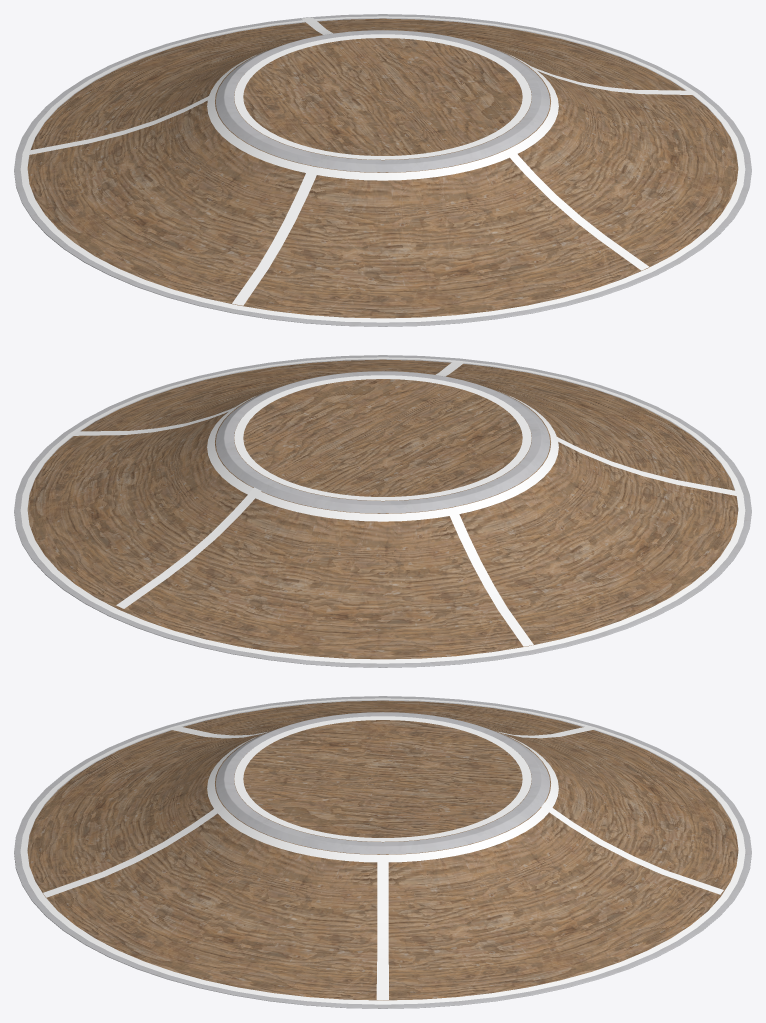
File: cmn_prp_own_bk_banks_generic_volcano_small_mesh.glb
The picture shows the model from 3 angles, top to bottom: view 1: azimuth 30°, elevation 25°; view 2: azimuth 150°, elevation 25°; view 3: azimuth 270°, elevation 25°; orthographic projection.
Parts seen in each view (by area): view 1: RS_LOD0_SECTION0_QD_Treshold_M_RSMAT_3, RS_LOD0_SECTION0_QD_Treshold_M_RSMAT_1, RS_LOD0_SECTION1_QD_Edges_M, RS_LOD0_SECTION0_QD_Treshold_M_RSMAT_0; view 2: RS_LOD0_SECTION0_QD_Treshold_M_RSMAT_3, RS_LOD0_SECTION0_QD_Treshold_M_RSMAT_1, RS_LOD0_SECTION1_QD_Edges_M, RS_LOD0_SECTION0_QD_Treshold_M_RSMAT_0; view 3: RS_LOD0_SECTION0_QD_Treshold_M_RSMAT_3, RS_LOD0_SECTION0_QD_Treshold_M_RSMAT_1, RS_LOD0_SECTION1_QD_Edges_M, RS_LOD0_SECTION0_QD_Treshold_M_RSMAT_0.
Part boxes in pixels (x1,y1,x2,y2): RS_LOD0_SECTION0_QD_Treshold_M_RSMAT_3: (27,18,738,318); RS_LOD0_SECTION0_QD_Treshold_M_RSMAT_1: (234,38,531,160); RS_LOD0_SECTION1_QD_Edges_M: (20,16,745,322); RS_LOD0_SECTION0_QD_Treshold_M_RSMAT_0: (14,14,751,326); RS_LOD0_SECTION0_QD_Treshold_M_RSMAT_3: (27,359,738,659); RS_LOD0_SECTION0_QD_Treshold_M_RSMAT_1: (234,379,531,501); RS_LOD0_SECTION1_QD_Edges_M: (20,357,745,663); RS_LOD0_SECTION0_QD_Treshold_M_RSMAT_0: (14,355,751,667); RS_LOD0_SECTION0_QD_Treshold_M_RSMAT_3: (27,700,738,1000); RS_LOD0_SECTION0_QD_Treshold_M_RSMAT_1: (234,720,531,842); RS_LOD0_SECTION1_QD_Edges_M: (20,698,745,1004); RS_LOD0_SECTION0_QD_Treshold_M_RSMAT_0: (14,696,751,1008).
Size of the model in its own units: 6.01 by 0.6701 by 6.01.
5 materials, 4 textured.
